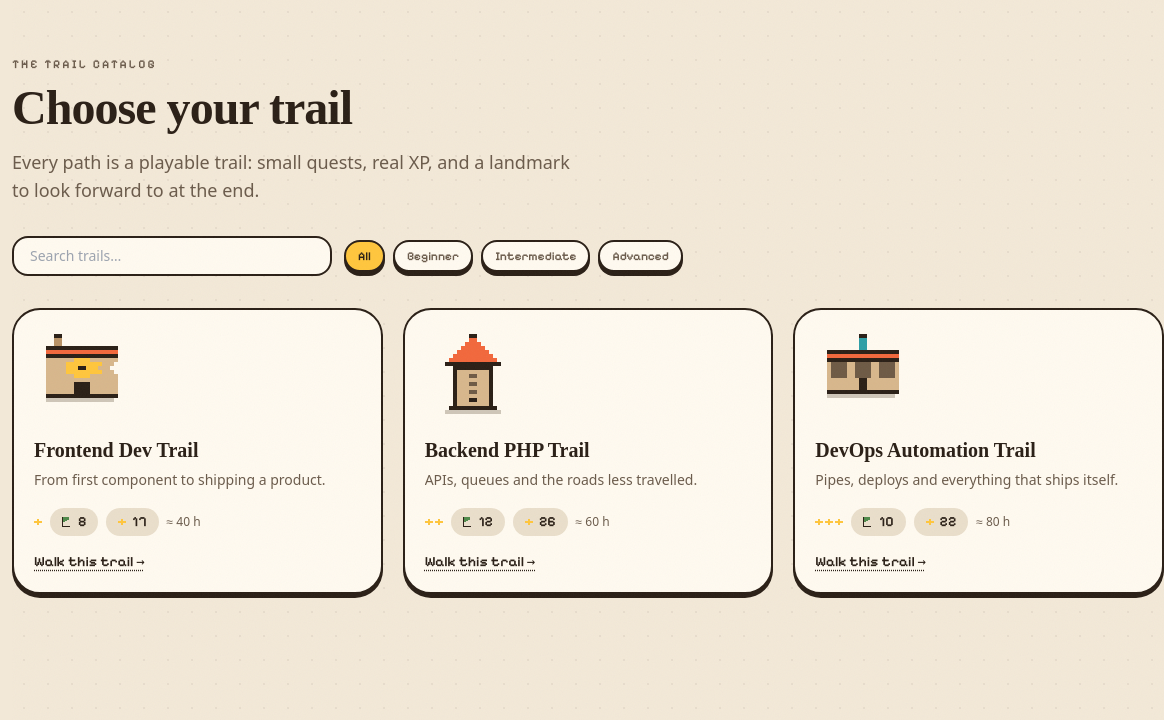
it: RoadmapCatalogPage › filters by search and clears filters from the empty state
Type "php" into the search field labelled "Search trails" at [172, 256], box [12, 236, 332, 276]
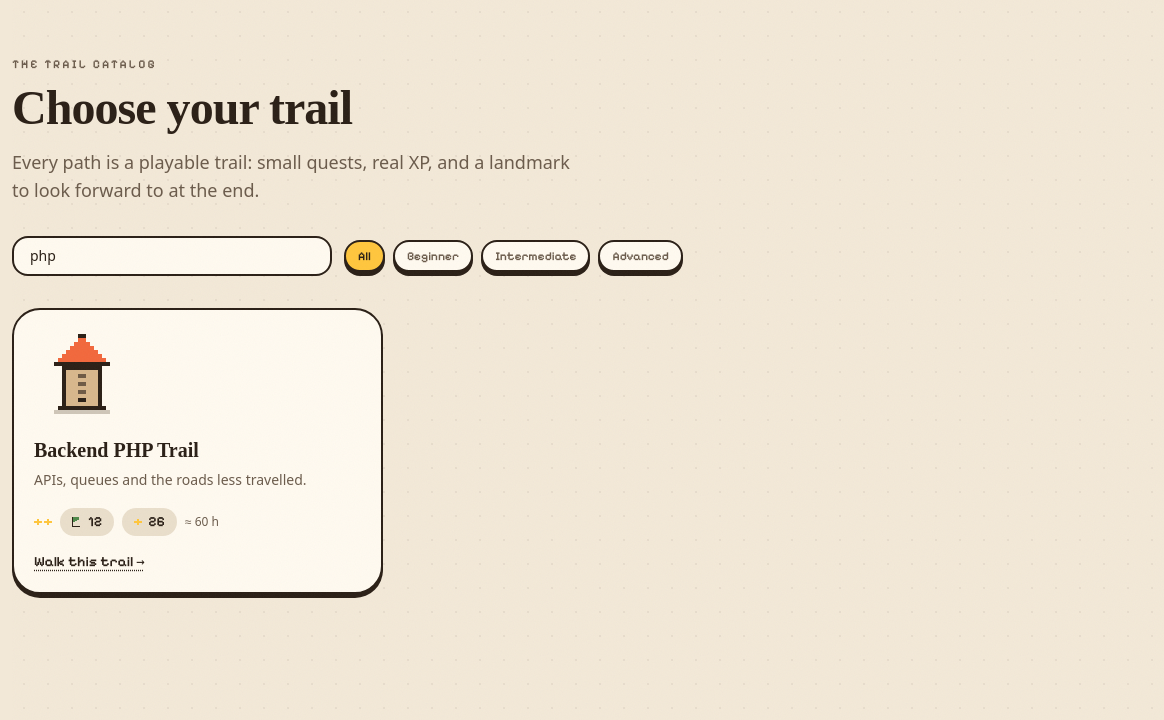
Expected: the link "Backend PHP Trail" is shown, [12, 308, 383, 594]
Expected: the link "Frontend Dev Trail" is gone
Replace the text in the search field named "Search trails" with "zzzz" at [172, 256], box [12, 236, 332, 276]
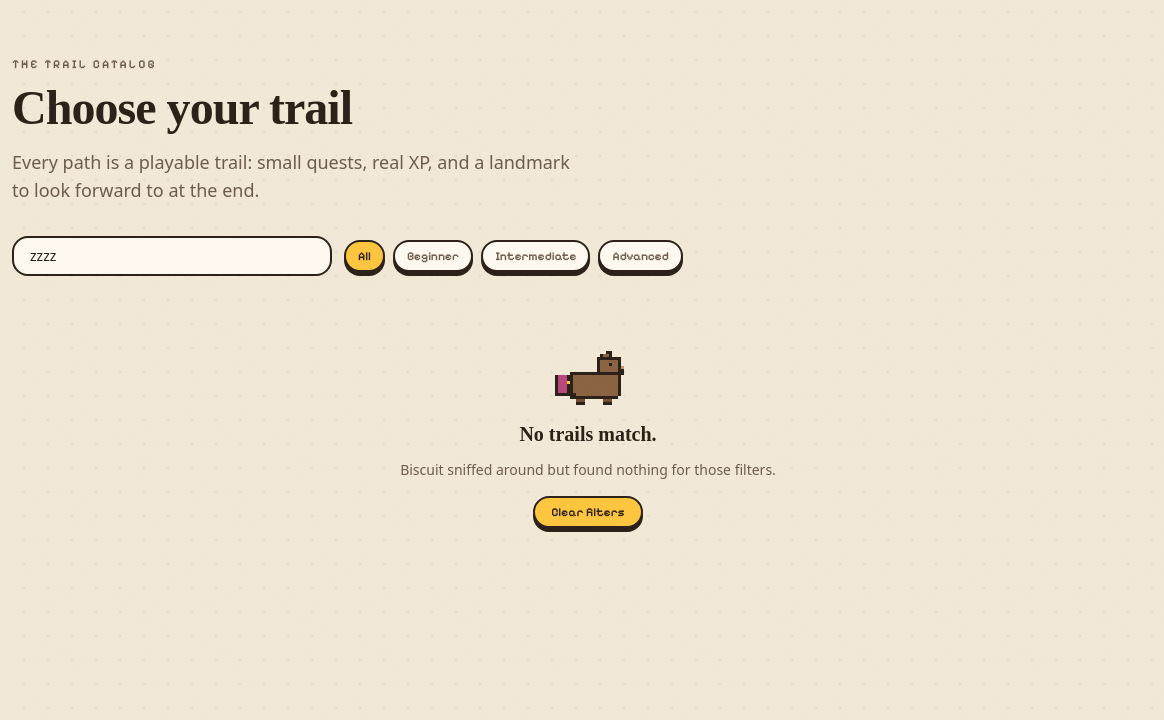
Expected: the text "No trails match." is shown, [519, 420, 657, 448]
Click the button "Clear filters" at [588, 512], box [533, 496, 643, 528]
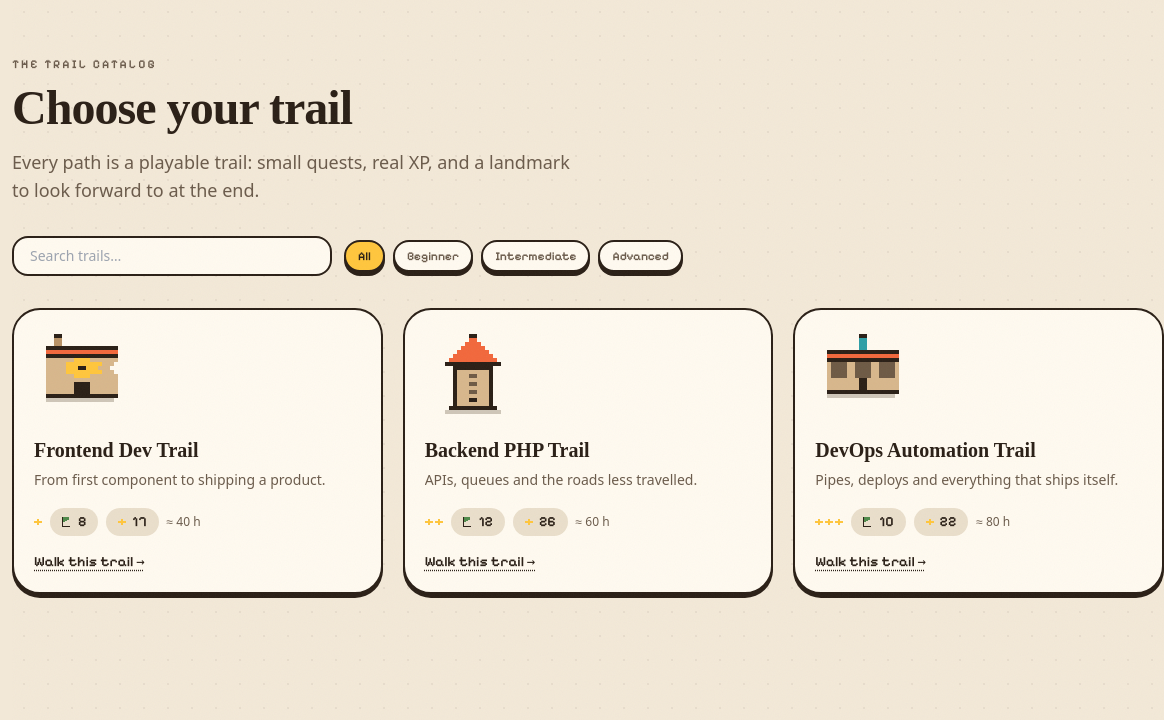
Expected: the number of links named "Walk this trail" is 3, [12, 308, 383, 594]; [403, 308, 773, 594]; [793, 308, 1163, 594]
